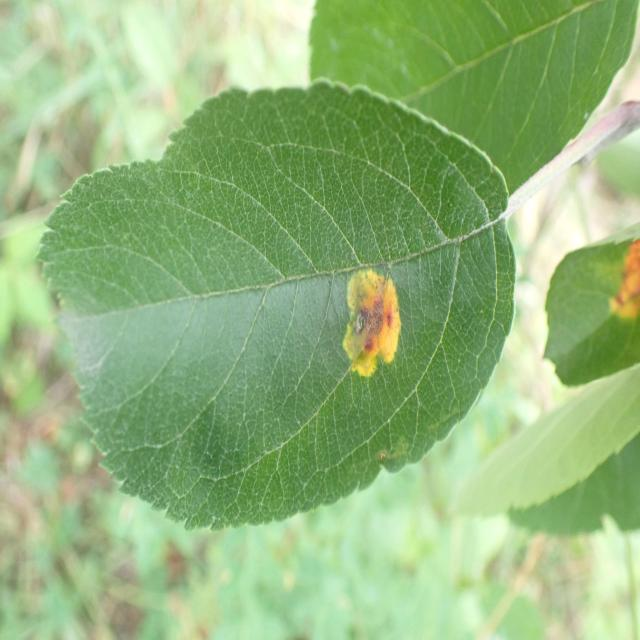rust: (36, 77, 517, 531), (542, 226, 640, 388)
